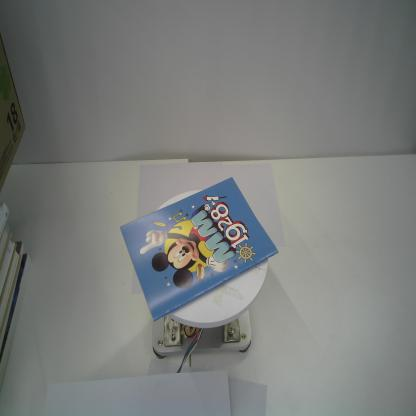Stationery: (120, 176, 279, 322)
